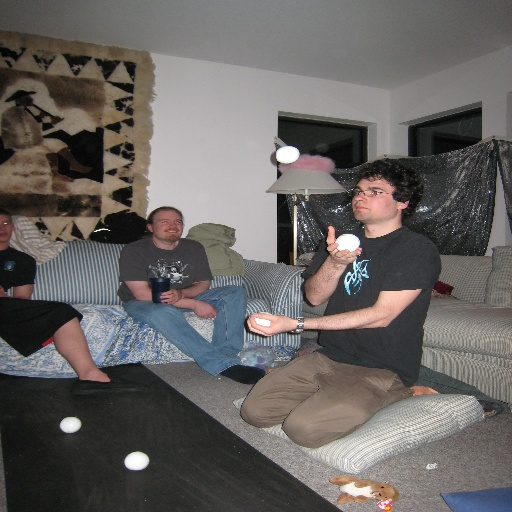hand: (253, 313, 325, 344), (327, 226, 362, 266), (192, 303, 217, 320), (159, 289, 182, 306)
